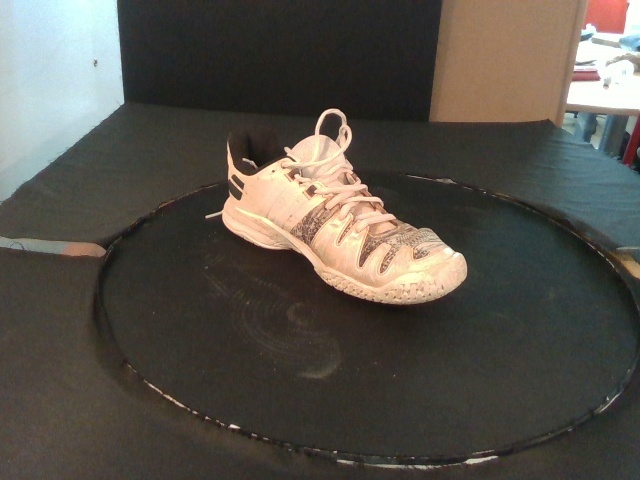shoe: (221, 126, 469, 307)
